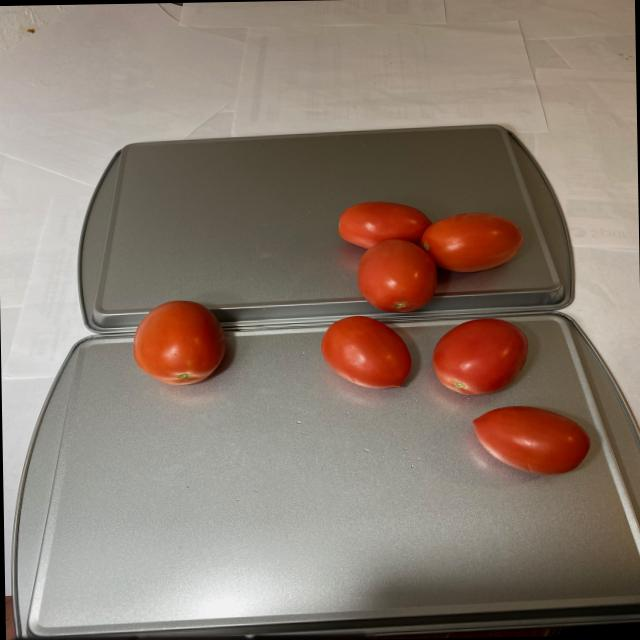tomato: (327, 195, 598, 490), (130, 296, 231, 390)
